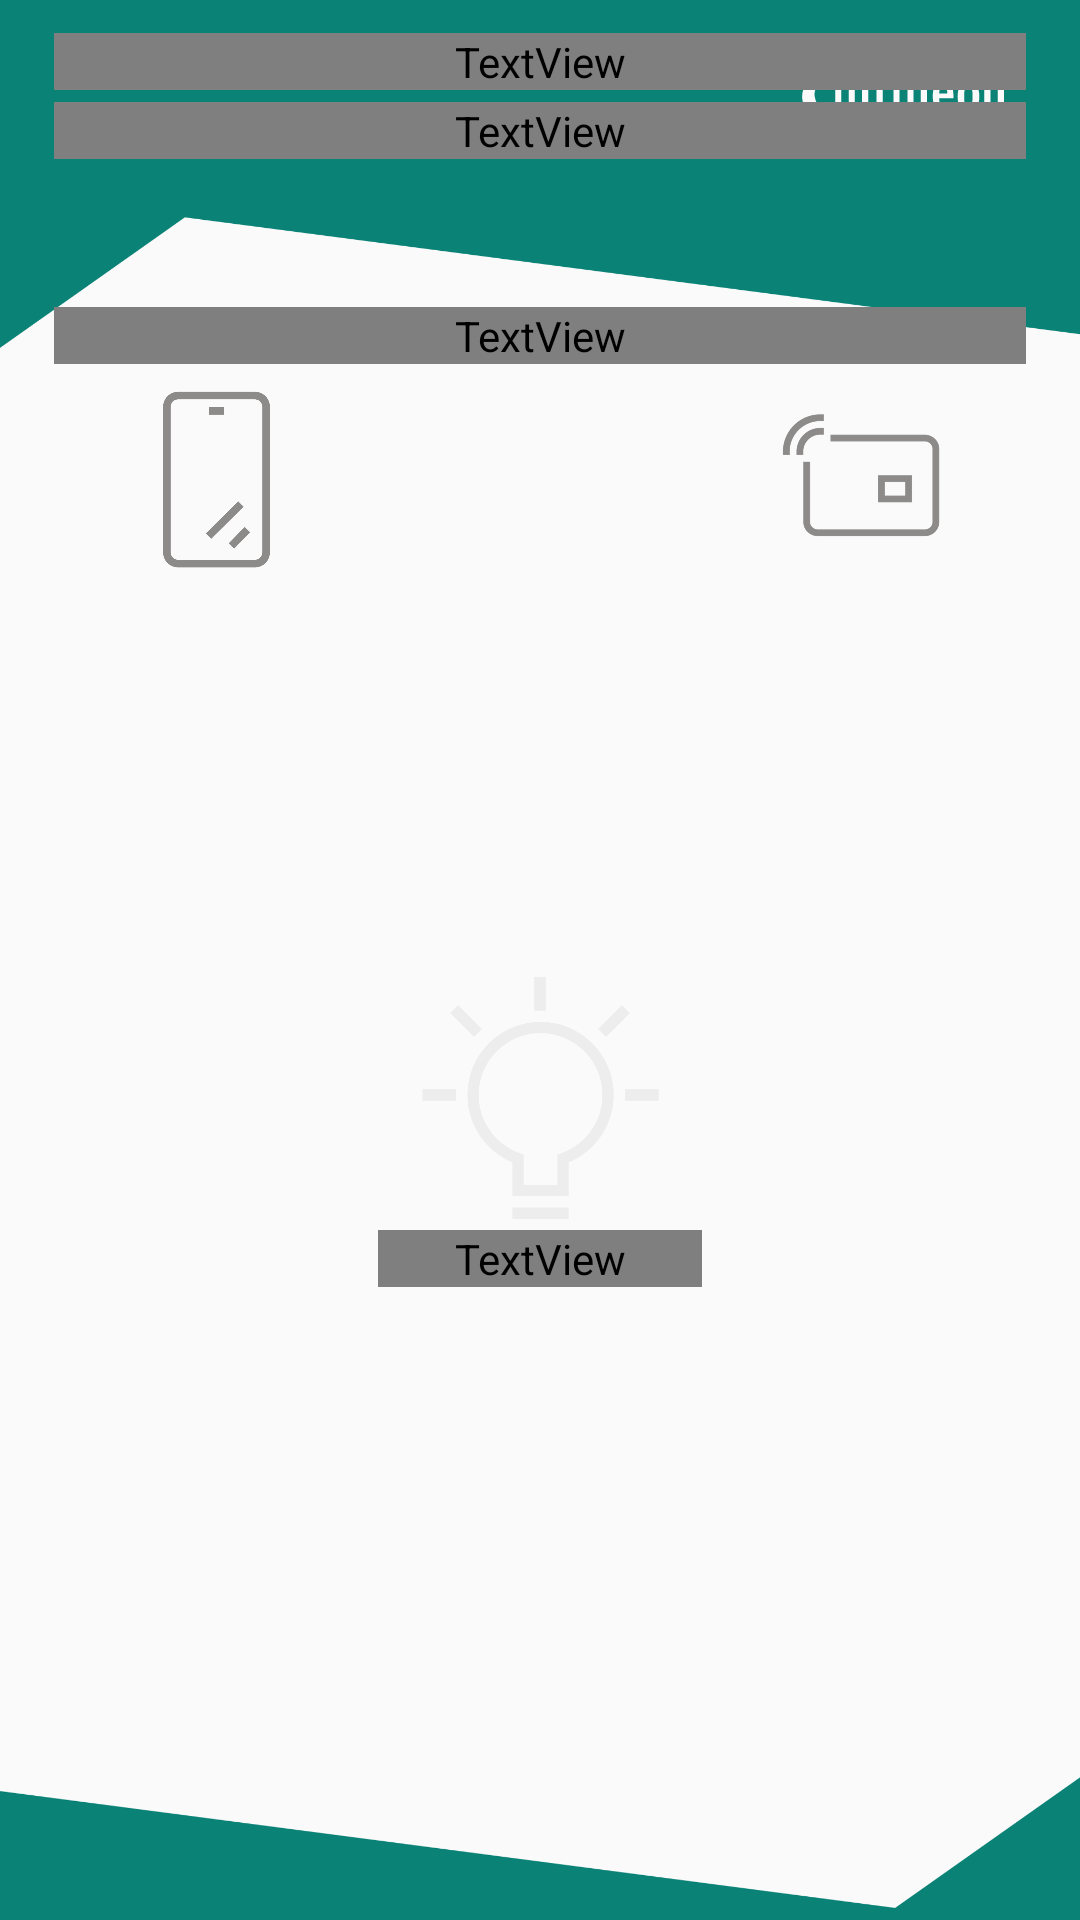

Locate icon controls on the screen. Image size 1080px×1920px, boxes as BBox(x1, y1, x2, y2).
Phone icon: BBox(163, 392, 270, 568)
